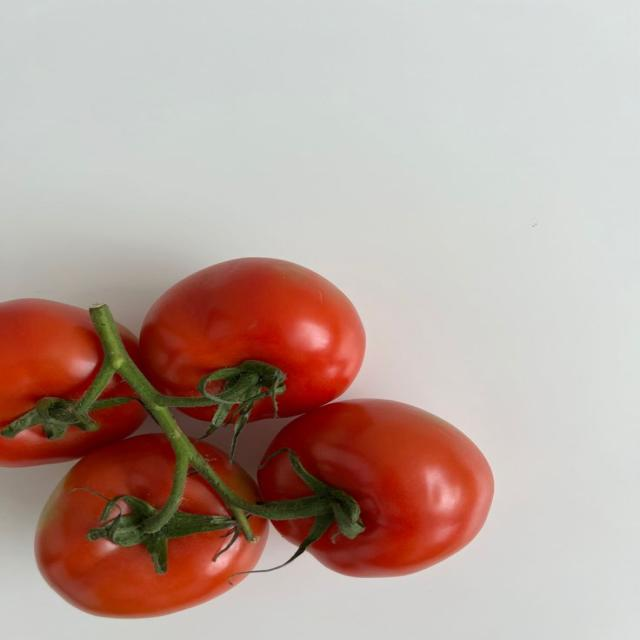tomato: (35, 434, 267, 617), (259, 400, 493, 576), (140, 258, 365, 416), (0, 299, 102, 427)
